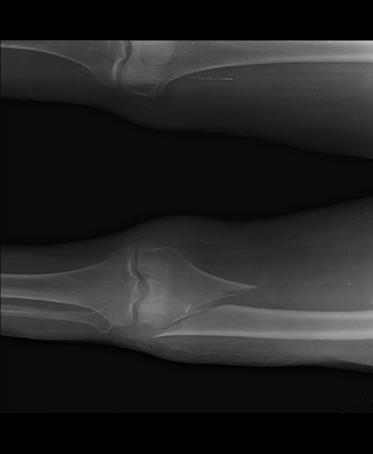fractured: (149, 284, 262, 340)
